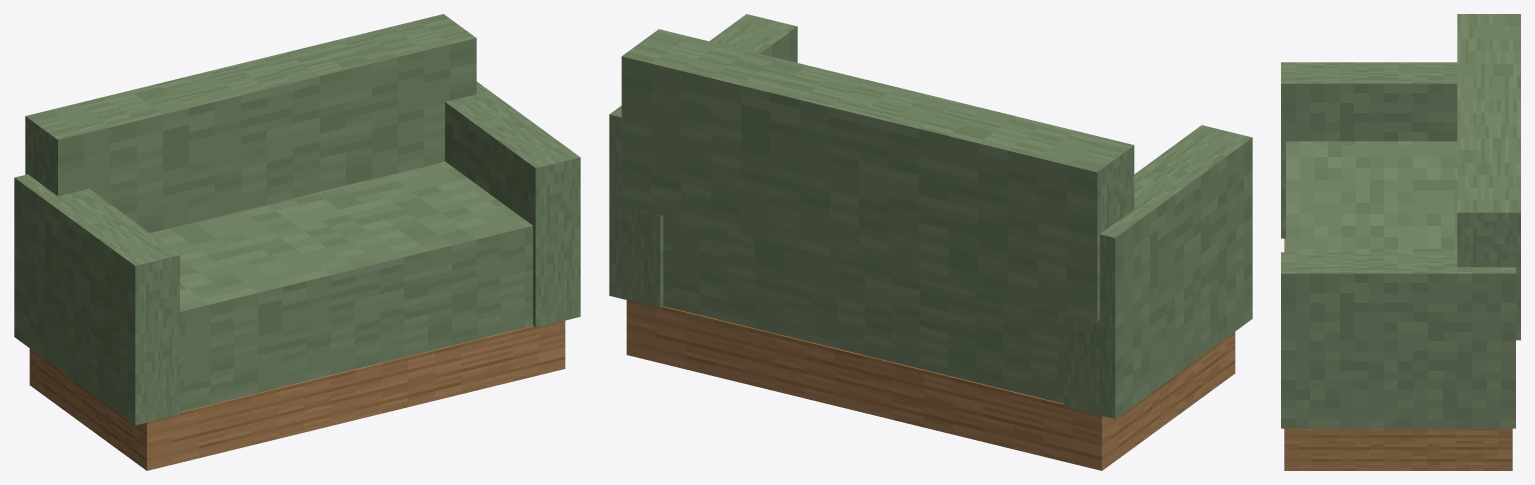
The model's file is sofa.glb.
3 renders of one model, left to right at view 1: azimuth 30°, elevation 25°; view 2: azimuth 150°, elevation 25°; view 3: azimuth 270°, elevation 25°, orthographic. The views are drawn at different scales.
Visible parts, largest first — view 1: block-1, block-2, block-3, block-0, block-4; view 2: block-2, block-1, block-3, block-0, block-4; view 3: block-4, block-1, block-2, block-3, block-0.
Boxes of the visible parts, x1,y1,x2,y2 form: block-1: [151, 161, 532, 411]; block-2: [25, 14, 476, 233]; block-3: [14, 174, 179, 425]; block-0: [29, 320, 565, 470]; block-4: [445, 81, 580, 327]; block-2: [621, 29, 1134, 321]; block-1: [663, 216, 1064, 403]; block-3: [1064, 125, 1252, 419]; block-0: [626, 300, 1235, 470]; block-4: [609, 14, 797, 307]; block-4: [1281, 252, 1515, 428]; block-1: [1286, 141, 1457, 252]; block-2: [1457, 14, 1520, 340]; block-3: [1281, 62, 1457, 238]; block-0: [1284, 238, 1512, 470].
Size of the model in its own units: 1.49 by 0.85 by 0.715.
2 materials, 2 textured.
